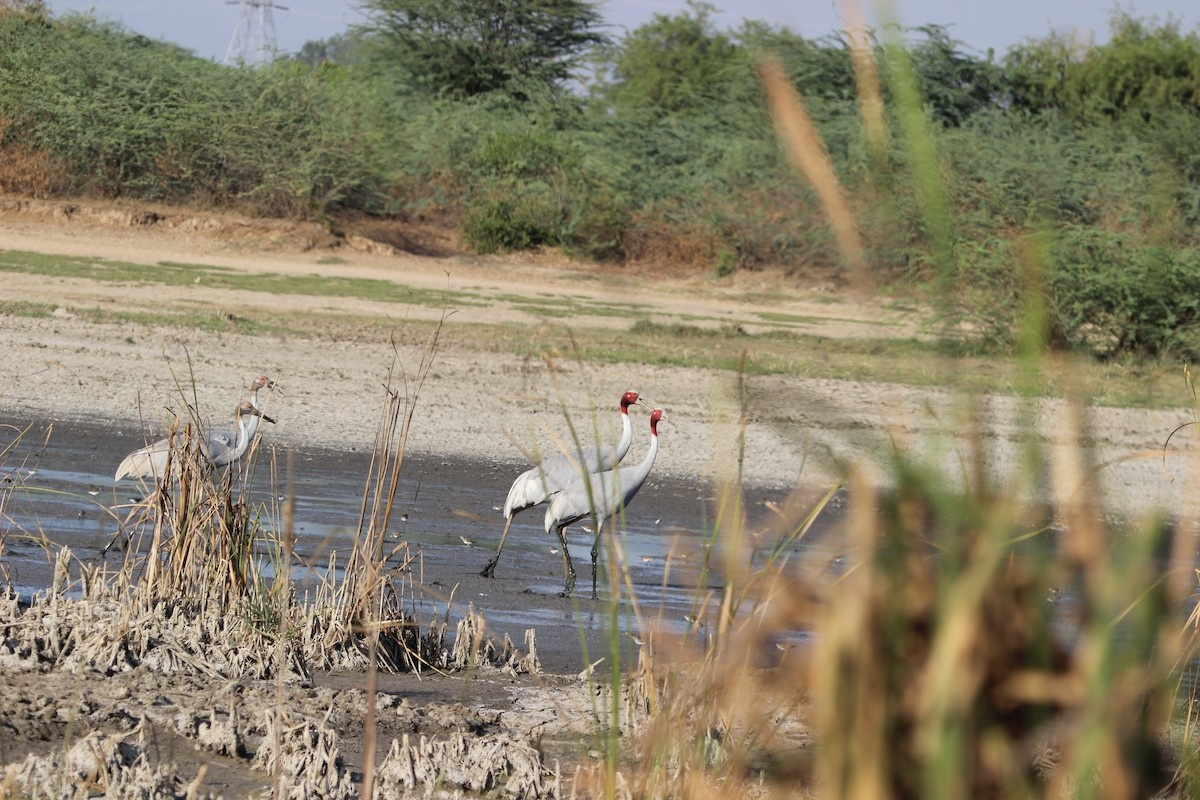crane: (480, 391, 660, 579), (539, 408, 688, 592), (116, 395, 279, 485), (244, 372, 282, 396)
